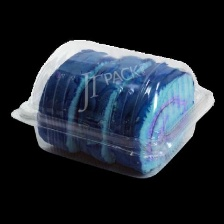plastic_box: (6, 29, 218, 184)
